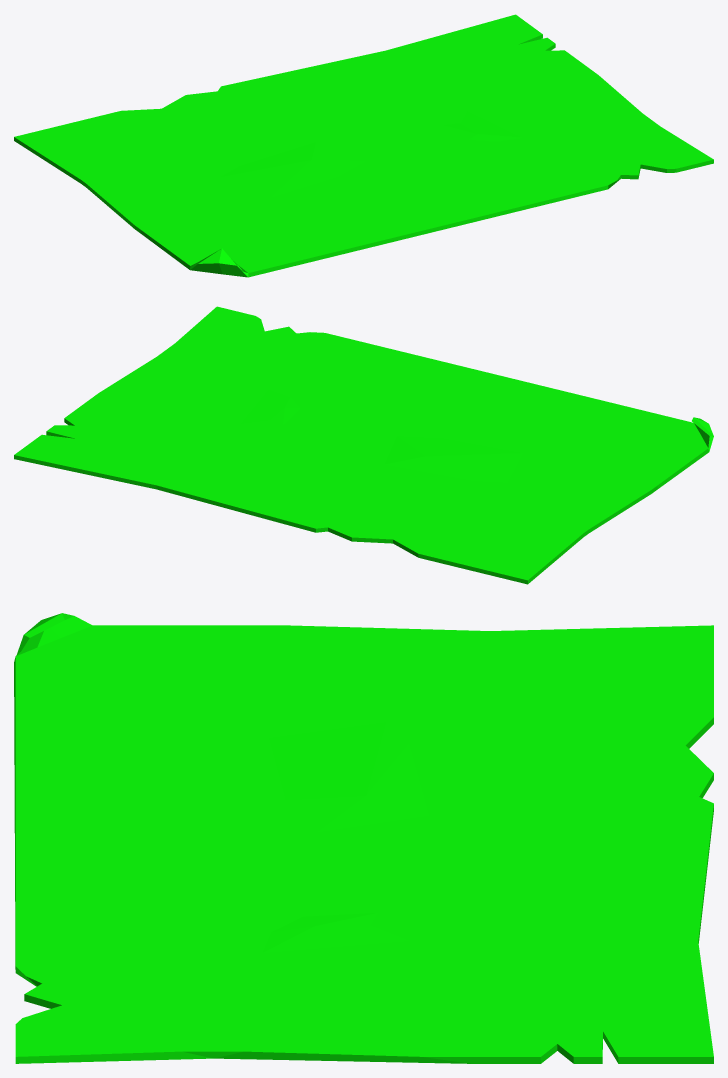
File: SM_Battlemap_A_Fantasy.fbx
The picture shows the model from 3 angles, top to bottom: view 1: azimuth 30°, elevation 25°; view 2: azimuth 150°, elevation 25°; view 3: azimuth 270°, elevation 25°; orthographic projection. The views are drawn at different scales.
Visible parts, largest first — view 1: battlemap-a-fantasy; view 2: battlemap-a-fantasy; view 3: battlemap-a-fantasy.
Part boxes in pixels (box(x1,y1,x2,y2)): battlemap-a-fantasy: box(14, 14, 713, 277); battlemap-a-fantasy: box(14, 306, 713, 584); battlemap-a-fantasy: box(14, 613, 713, 1063).
Size of the model in its own units: 4.38 by 0.1858 by 3.
